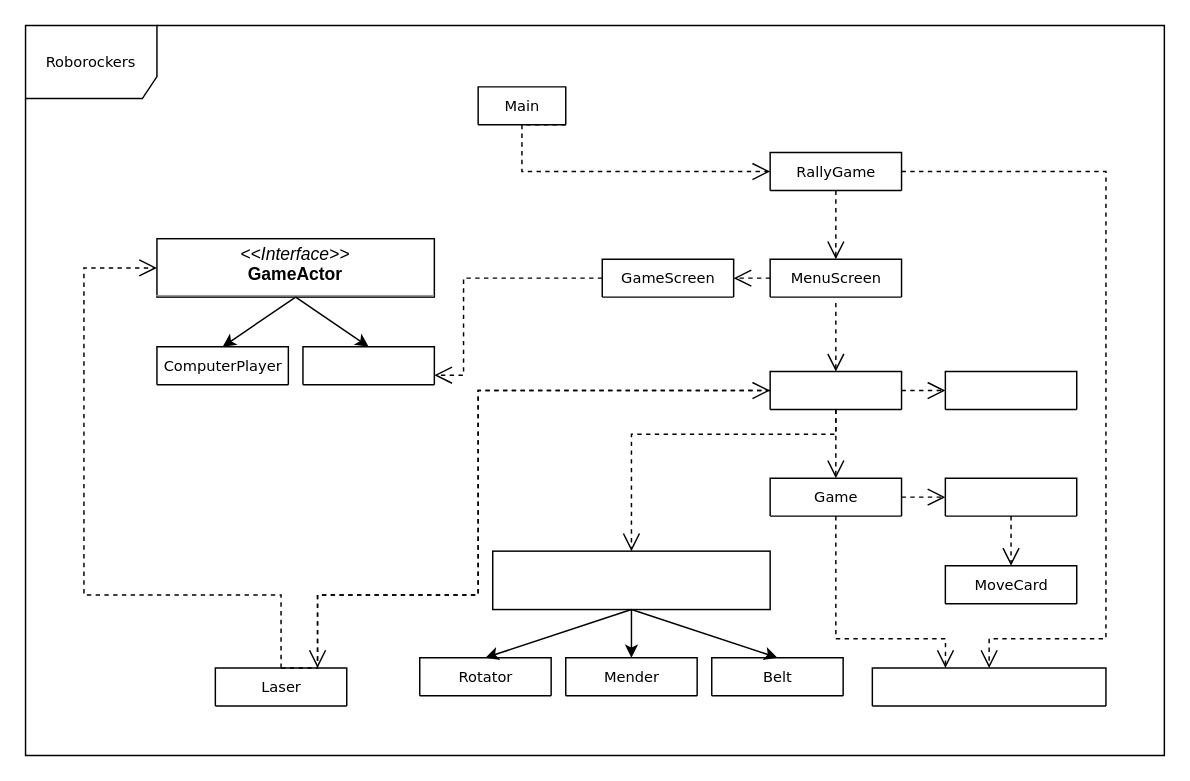
Image size: 1190x781. Some labels were removed from this diagram. The box of each missing label's shape, as (x1, y1, x2, y2) in pixels:
<<Interface>> BoardObject: (491, 550, 770, 610)
Board: (769, 370, 902, 410)
Deck: (944, 477, 1077, 516)
Player: (301, 345, 434, 385)
Wall: (944, 370, 1077, 410)
WinnerAnnouncementScreen: (871, 666, 1106, 706)
